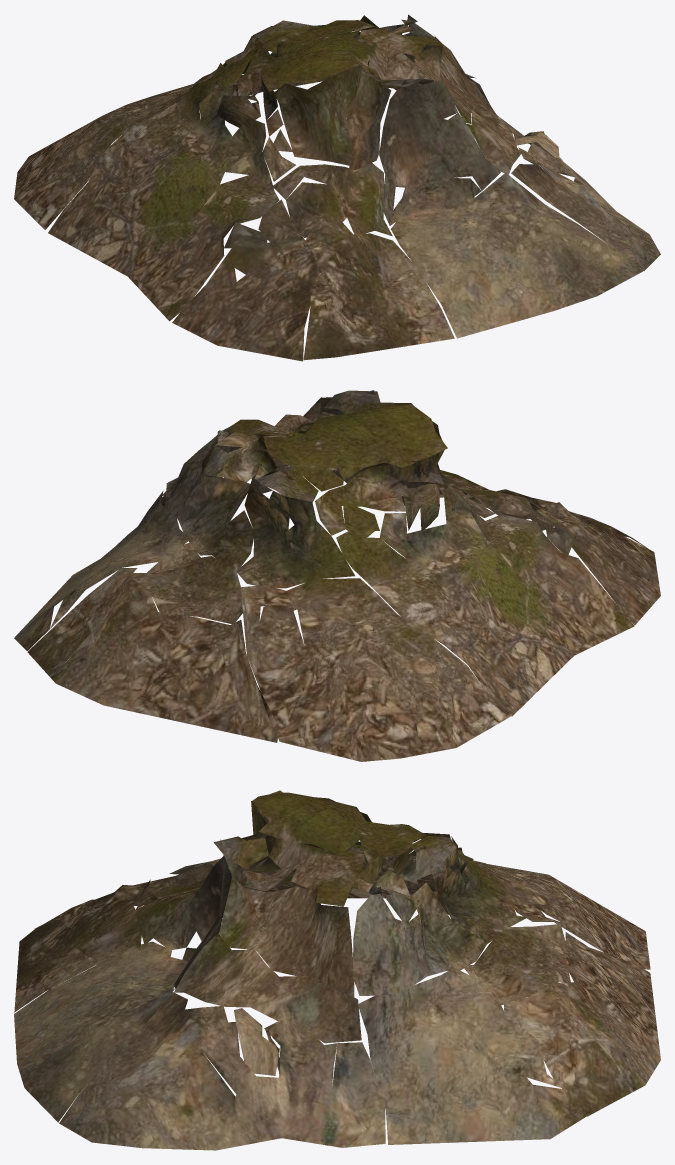
Rendered from tree_stump_01.glb.
The picture shows the model from 3 angles, top to bottom: view 1: azimuth 30°, elevation 25°; view 2: azimuth 150°, elevation 25°; view 3: azimuth 270°, elevation 25°; orthographic projection. The views are drawn at different scales.
Parts seen in each view (by area): view 1: tree_stump_01; view 2: tree_stump_01; view 3: tree_stump_01.
Boxes of the visible parts, <box> form: tree_stump_01: <box>14,14,660,361</box>; tree_stump_01: <box>14,390,660,761</box>; tree_stump_01: <box>14,790,660,1150</box>.
Bounding box in the file's own units: 1.44 × 0.5677 × 1.59.
Materials: 1 (1 with a texture image).
